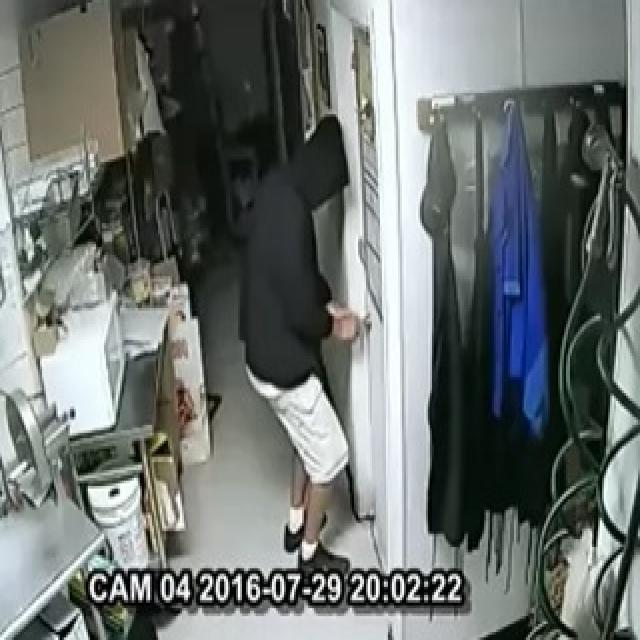thief: (240, 106, 372, 568)
